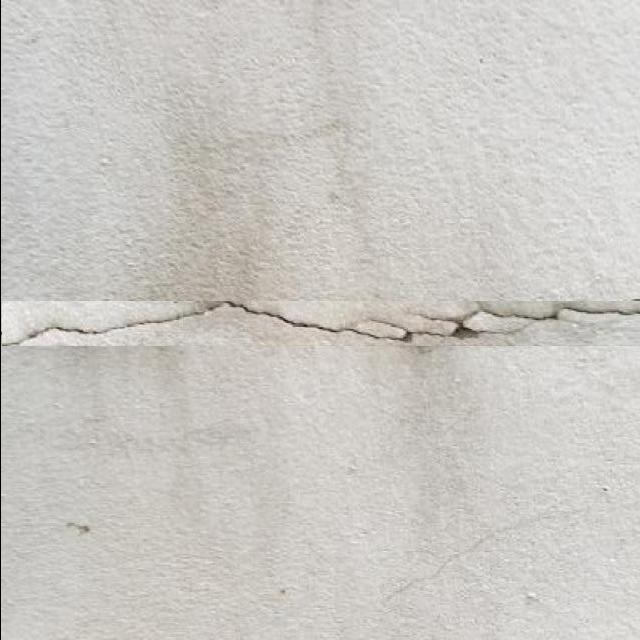crack: (7, 339, 636, 430), (3, 293, 639, 347), (377, 518, 504, 606), (11, 313, 209, 342), (8, 298, 210, 319), (8, 322, 99, 345)
